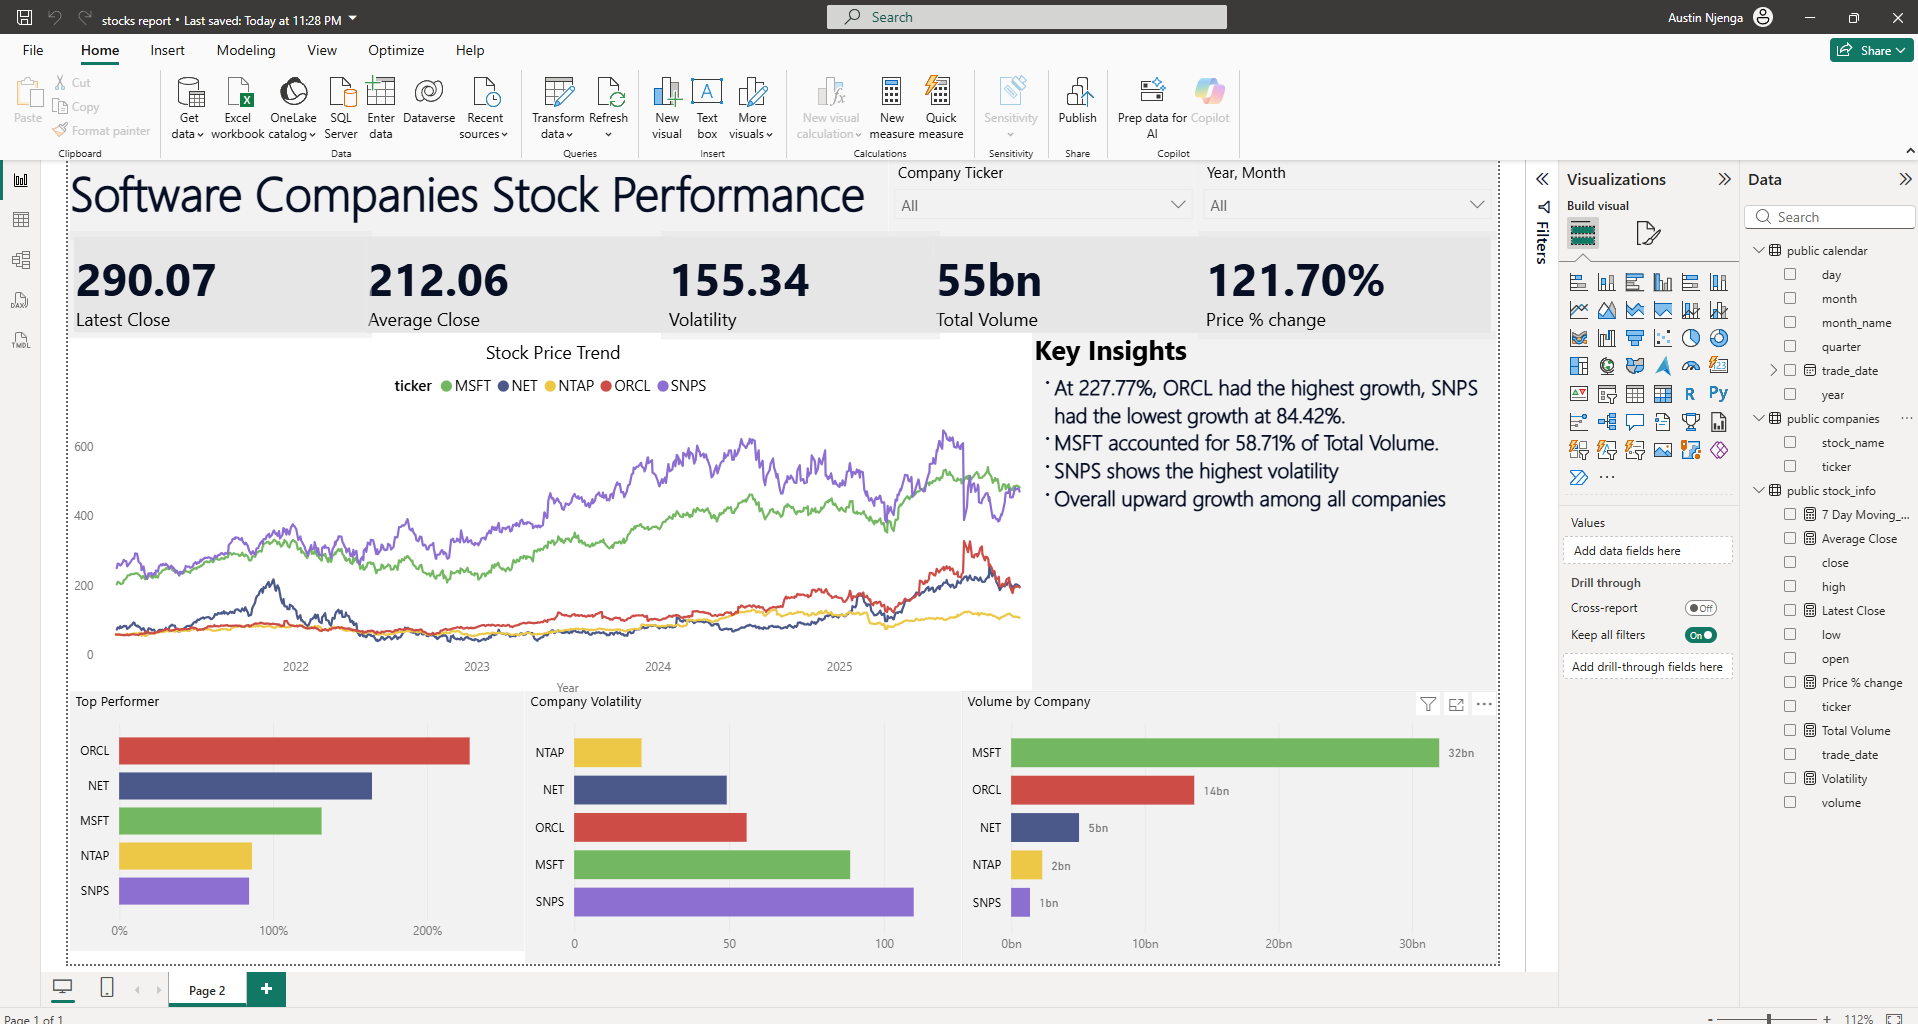

The page's visual inventory and layout, read from the dashboard file:
{"tool":"powerbi","page":{"name":"Page 2","canvas":[1280,720],"ordinal":0},"visuals":[{"type":"cardVisual","fields":{"Data":["public stock_info.total volume"]},"box":[770.3,63.6,252.5,96.7],"z":0},{"type":"cardVisual","fields":{"Data":["public stock_info.Volatility"]},"box":[531.4,63.6,249.9,96.7],"z":1},{"type":"cardVisual","fields":{"Data":["public stock_info.avg close"]},"box":[261.1,63.6,281.2,96.7],"z":2},{"type":"barChart","title":"Company Volatility","fields":{"Y":["public stock_info.Volatility"],"Category":["public companies.ticker"]},"box":[408.9,475.5,390.8,244.2],"z":3},{"type":"barChart","title":"Volume by Company","fields":{"Y":["public stock_info.Total Volume"],"Category":["public companies.ticker"]},"box":[800.6,475.5,479.1,244.5],"z":4},{"type":"lineChart","title":"Stock Price Trend","fields":{"Y":["public stock_info.Average Close"],"Series":["public companies.ticker"],"Category":["public calendar.trade_date.Variation.Date Hierarchy.Year","public calendar.trade_date.Variation.Date Hierarchy.Quarter","public calendar.trade_date.Variation.Date Hierarchy.Month","public calendar.trade_date.Variation.Date Hierarchy.Day"]},"box":[1.4,160.9,863.4,320.4],"z":5},{"type":"slicer","fields":{"Values":["public companies.ticker"]},"box":[735.2,0,276.7,71.6],"z":7},{"type":"slicer","fields":{"Values":["public calendar.trade_date.Variation.Date Hierarchy.Year","public calendar.trade_date.Variation.Date Hierarchy.Month"]},"box":[1011.9,0,267.8,71.6],"z":9},{"type":"cardVisual","fields":{"Data":["public stock_info.Latest Close"]},"box":[0,64,272,96],"z":10},{"type":"cardVisual","title":"Price Change","fields":{"Data":["public stock_info.Price % change"]},"box":[1011.9,63.6,267.8,96.7],"z":11},{"type":"barChart","title":"Top Performer","fields":{"Category":["public companies.ticker"],"Y":["public stock_info.Price % change"]},"box":[1.4,475.5,406.6,232.7],"z":12},{"type":"textbox","title":"Key Insights","box":[863.3,153.1,416.4,322.4],"z":13},{"type":"textbox","box":[1.8,0,733.4,71.6],"z":14}]}

Visuals, with their boxes on the page's 1280x720 design canvas (x1, y1, x2, y2). These are canvas units, not pixel positions in the 1918x1024 screenshot, which may show the page scaled, cropped or inside an application window:
cardVisual - public stock_info.total volume: detection(770, 64, 1023, 160)
cardVisual - public stock_info.Volatility: detection(531, 64, 781, 160)
cardVisual - public stock_info.avg close: detection(261, 64, 542, 160)
"Company Volatility" barChart: detection(409, 476, 800, 720)
"Volume by Company" barChart: detection(801, 476, 1280, 720)
"Stock Price Trend" lineChart: detection(1, 161, 865, 481)
slicer - public companies.ticker: detection(735, 0, 1012, 72)
slicer - public calendar.trade_date.Variation.Date Hierarchy.Year x public calendar.trade_date.Variation.Date Hierarchy.Month: detection(1012, 0, 1280, 72)
cardVisual - public stock_info.Latest Close: detection(0, 64, 272, 160)
"Price Change" cardVisual: detection(1012, 64, 1280, 160)
"Top Performer" barChart: detection(1, 476, 408, 708)
"Key Insights" textbox: detection(863, 153, 1280, 476)
textbox: detection(2, 0, 735, 72)
